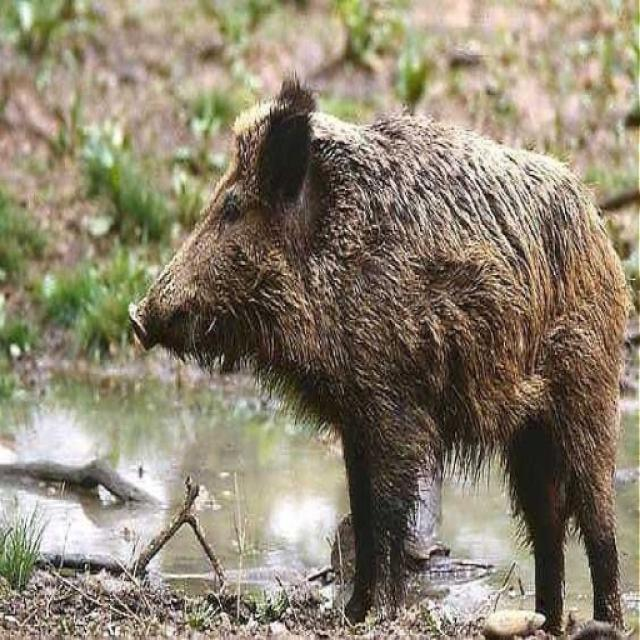pig: (86, 50, 624, 630)
